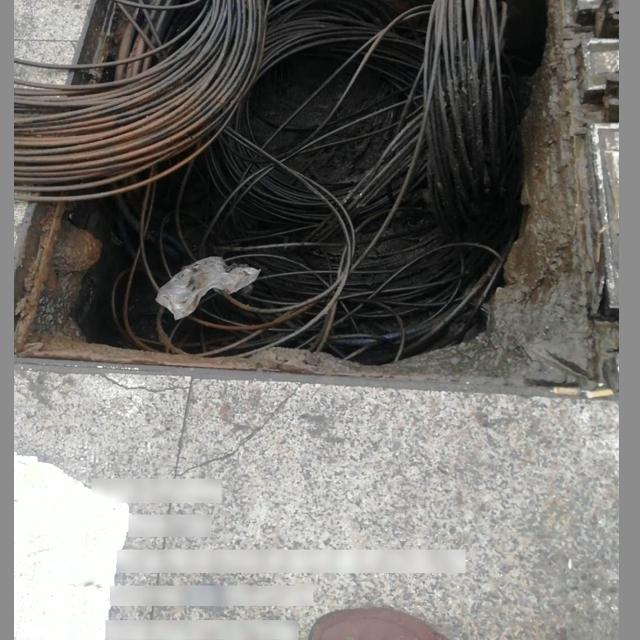lose: (29, 0, 604, 426)
